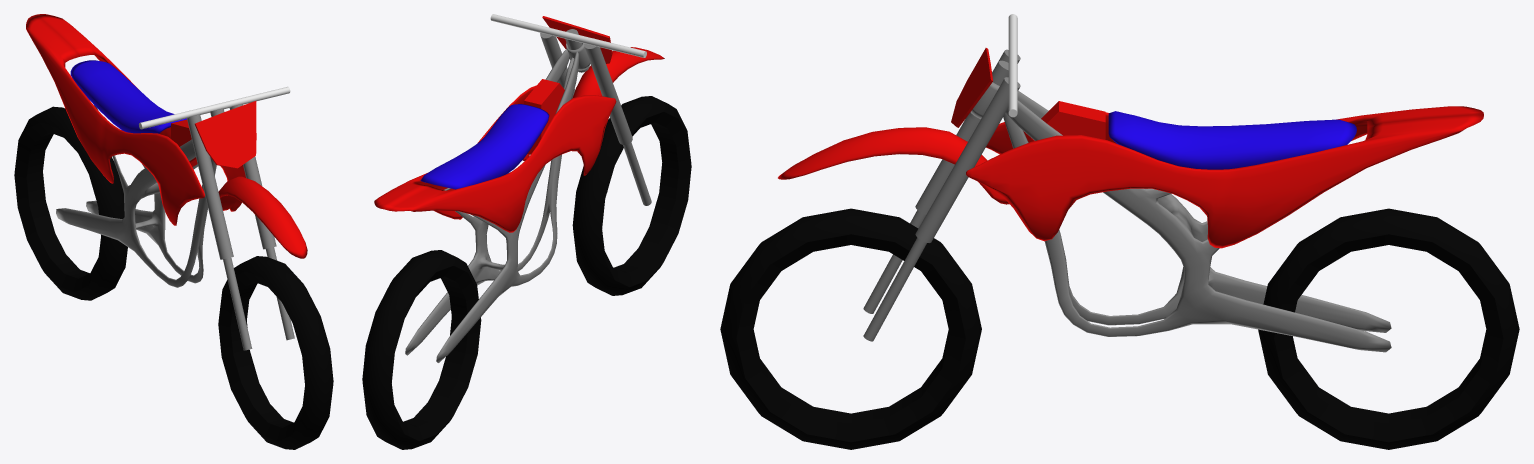
File: dirtbike.glb
3 views of the same model, side by side, from view 1: azimuth 30°, elevation 25°; view 2: azimuth 150°, elevation 25°; view 3: azimuth 270°, elevation 25° (orthographic). The views are drawn at different scales.
Visible parts, largest first — view 1: FrontWheel, Cube.001, FrontWheel.001, Frame, FrontFork, Seat, Cube.003, Cube.002, Handlebar, FuelTank; view 2: FrontWheel.001, FrontWheel, Cube.001, Frame, Seat, FrontFork, Cube.002, Handlebar, FuelTank, Cube.003; view 3: Cube.001, FrontWheel, FrontWheel.001, Frame, Seat, FrontFork, Cube.002, FuelTank, Cube.003, Handlebar.
Part boxes in pixels (x1=…): FrontWheel: x1=218, y1=256, x2=333, y2=449; Cube.001: x1=26, y1=14, x2=245, y2=225; FrontWheel.001: x1=14, y1=106, x2=127, y2=300; Frame: x1=56, y1=105, x2=216, y2=287; FrontFork: x1=187, y1=104, x2=294, y2=350; Seat: x1=70, y1=60, x2=186, y2=133; Cube.003: x1=194, y1=101, x2=256, y2=168; Cube.002: x1=218, y1=176, x2=307, y2=258; Handlebar: x1=139, y1=86, x2=290, y2=129; FuelTank: x1=171, y1=119, x2=197, y2=166; FrontWheel.001: x1=362, y1=250, x2=481, y2=449; FrontWheel: x1=572, y1=96, x2=691, y2=295; Cube.001: x1=374, y1=85, x2=616, y2=232; Frame: x1=405, y1=43, x2=590, y2=362; Seat: x1=420, y1=104, x2=549, y2=189; FrontFork: x1=540, y1=27, x2=651, y2=205; Cube.002: x1=572, y1=47, x2=664, y2=98; Handlebar: x1=490, y1=14, x2=646, y2=57; FuelTank: x1=524, y1=79, x2=564, y2=154; Cube.003: x1=542, y1=16, x2=612, y2=63; Cube.001: x1=966, y1=106, x2=1483, y2=248; FrontWheel: x1=720, y1=208, x2=981, y2=449; FrontWheel.001: x1=1258, y1=208, x2=1519, y2=449; Frame: x1=970, y1=82, x2=1391, y2=352; Seat: x1=1108, y1=111, x2=1356, y2=169; FrontFork: x1=863, y1=49, x2=1020, y2=341; Cube.002: x1=778, y1=127, x2=1009, y2=204; FuelTank: x1=1031, y1=101, x2=1105, y2=140; Cube.003: x1=951, y1=48, x2=992, y2=127; Handlebar: x1=1008, y1=14, x2=1017, y2=117.
Size of the model in its own units: 0.5 by 0.9528 by 1.77.
